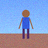person: (19, 10, 33, 39)
